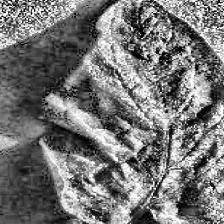spider mites: (43, 0, 224, 224)
